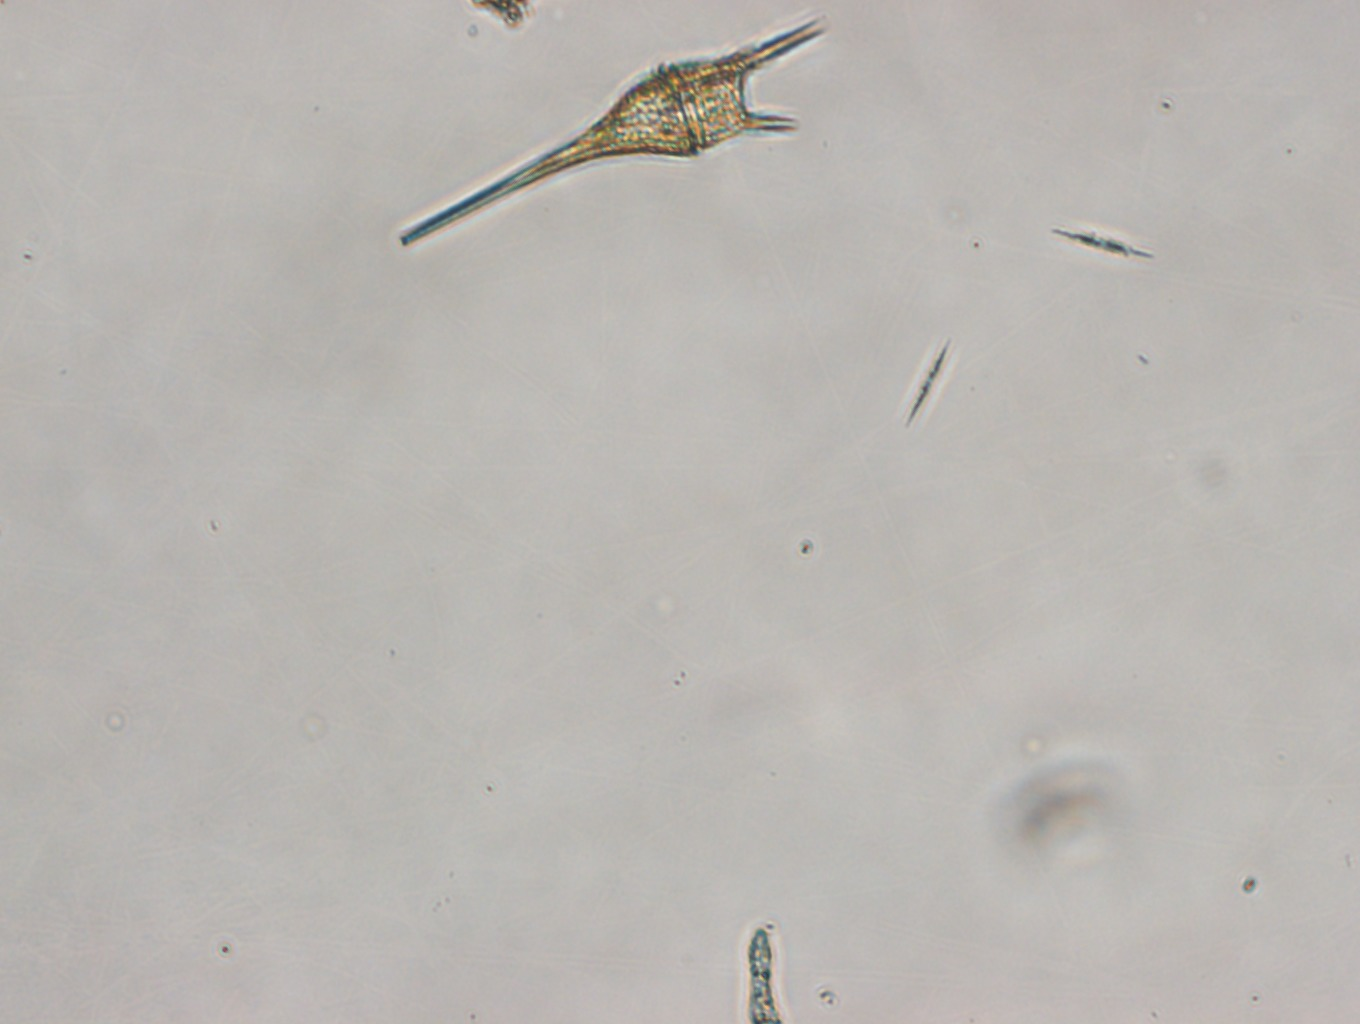ceratium furca: (397, 15, 832, 243)
navicula: (910, 335, 953, 422), (1050, 225, 1155, 259)
